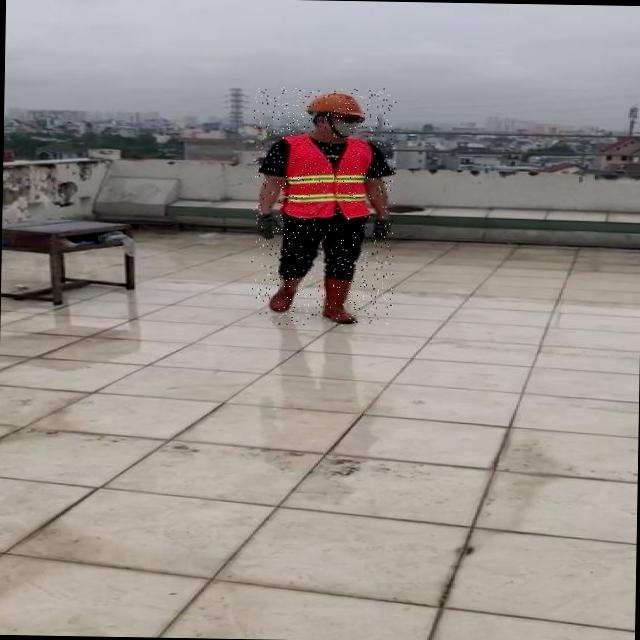boots: (318, 278, 357, 322), (260, 275, 304, 314)
gloves: (230, 204, 281, 254), (349, 215, 398, 257)
helmet: (298, 88, 371, 120)
vest: (278, 135, 372, 220)
